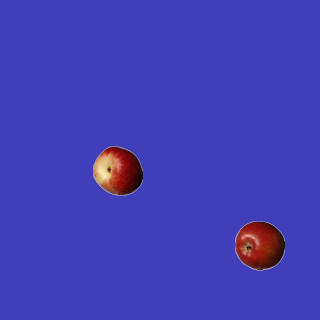Apple Braeburn: (234, 220, 284, 270)
Nectarine: (92, 145, 142, 195)
